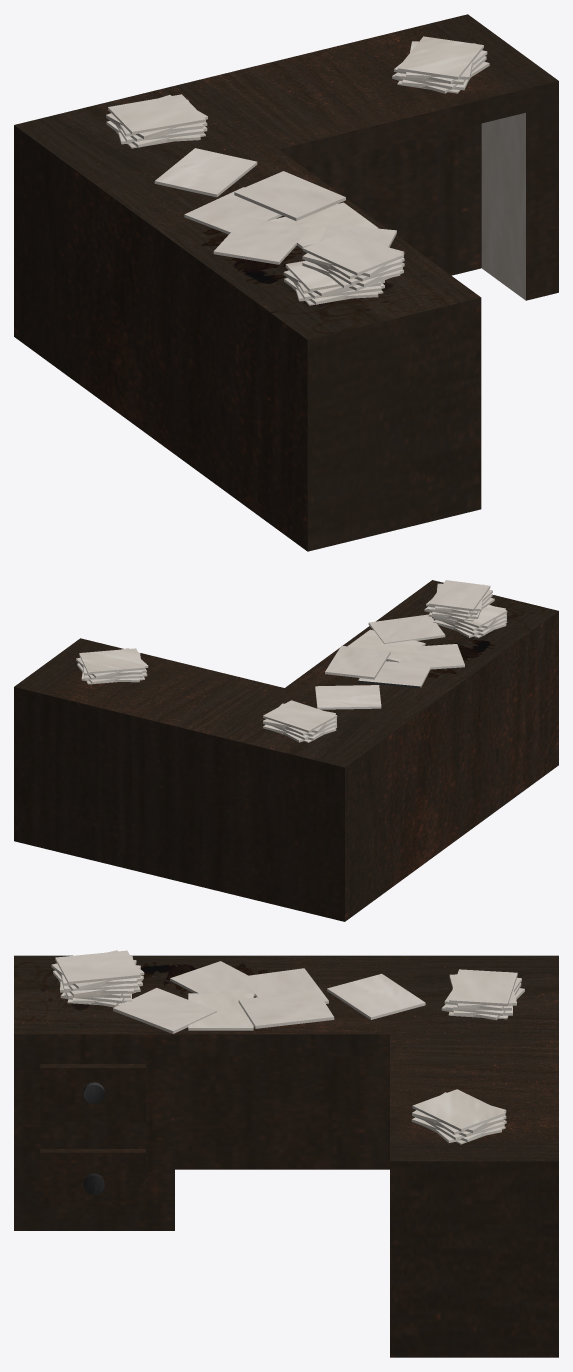
File: office desk.fbx
The picture shows the model from 3 angles, top to bottom: view 1: azimuth 30°, elevation 25°; view 2: azimuth 150°, elevation 25°; view 3: azimuth 270°, elevation 25°; orthographic projection. The views are drawn at different scales.
Parts seen in each view (by area): view 1: group8_pasted__pCube7; view 2: group8_pasted__pCube7; view 3: group8_pasted__pCube7.
Boxes of the visible parts, left/top/right/bottom form: group8_pasted__pCube7: left=14, top=14, right=558, bottom=551; group8_pasted__pCube7: left=14, top=580, right=558, bottom=921; group8_pasted__pCube7: left=14, top=950, right=558, bottom=1357.
Bounding box in the file's own units: 8.21 × 4.23 × 9.2.
